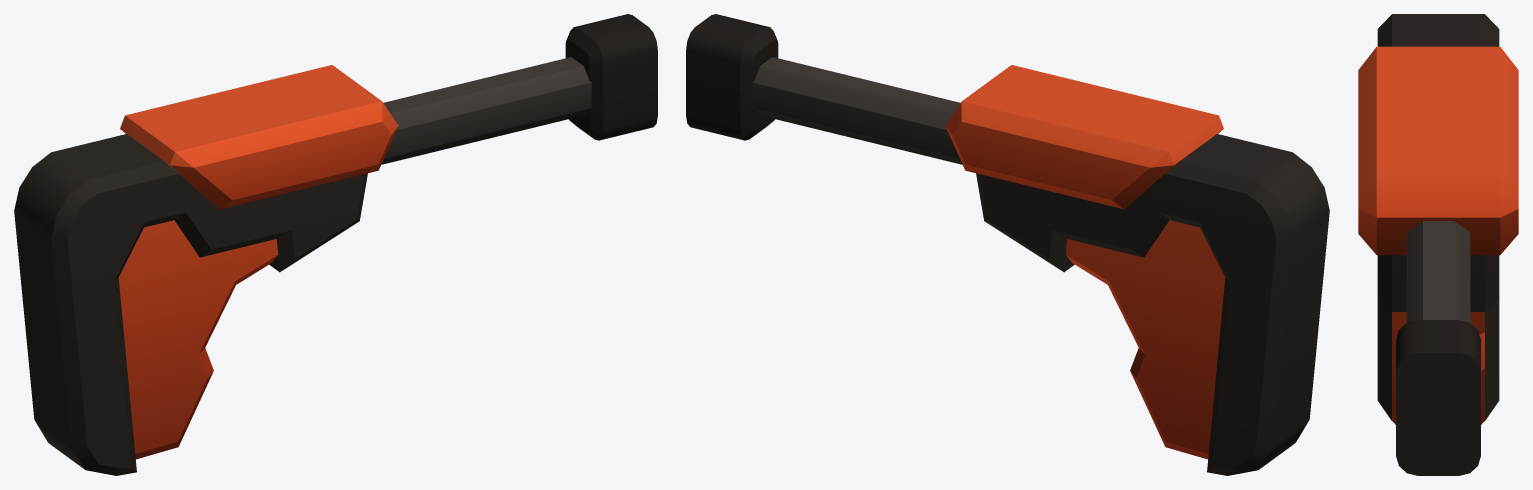
Rendered from SMG1_ButtstockHeavy.fbx.
3 views of the same model, side by side, from view 1: azimuth 30°, elevation 25°; view 2: azimuth 150°, elevation 25°; view 3: azimuth 270°, elevation 25° (orthographic). The views are drawn at different scales.
Parts seen in each view (by area): view 1: SMG1_ButtstockHeavy; view 2: SMG1_ButtstockHeavy; view 3: SMG1_ButtstockHeavy.
Part boxes in pixels (bbox=[...]): SMG1_ButtstockHeavy: bbox=[14, 14, 657, 475]; SMG1_ButtstockHeavy: bbox=[686, 14, 1329, 475]; SMG1_ButtstockHeavy: bbox=[1358, 14, 1518, 475].
Bounding box in the file's own units: 26.11 × 13.02 × 4.8.
